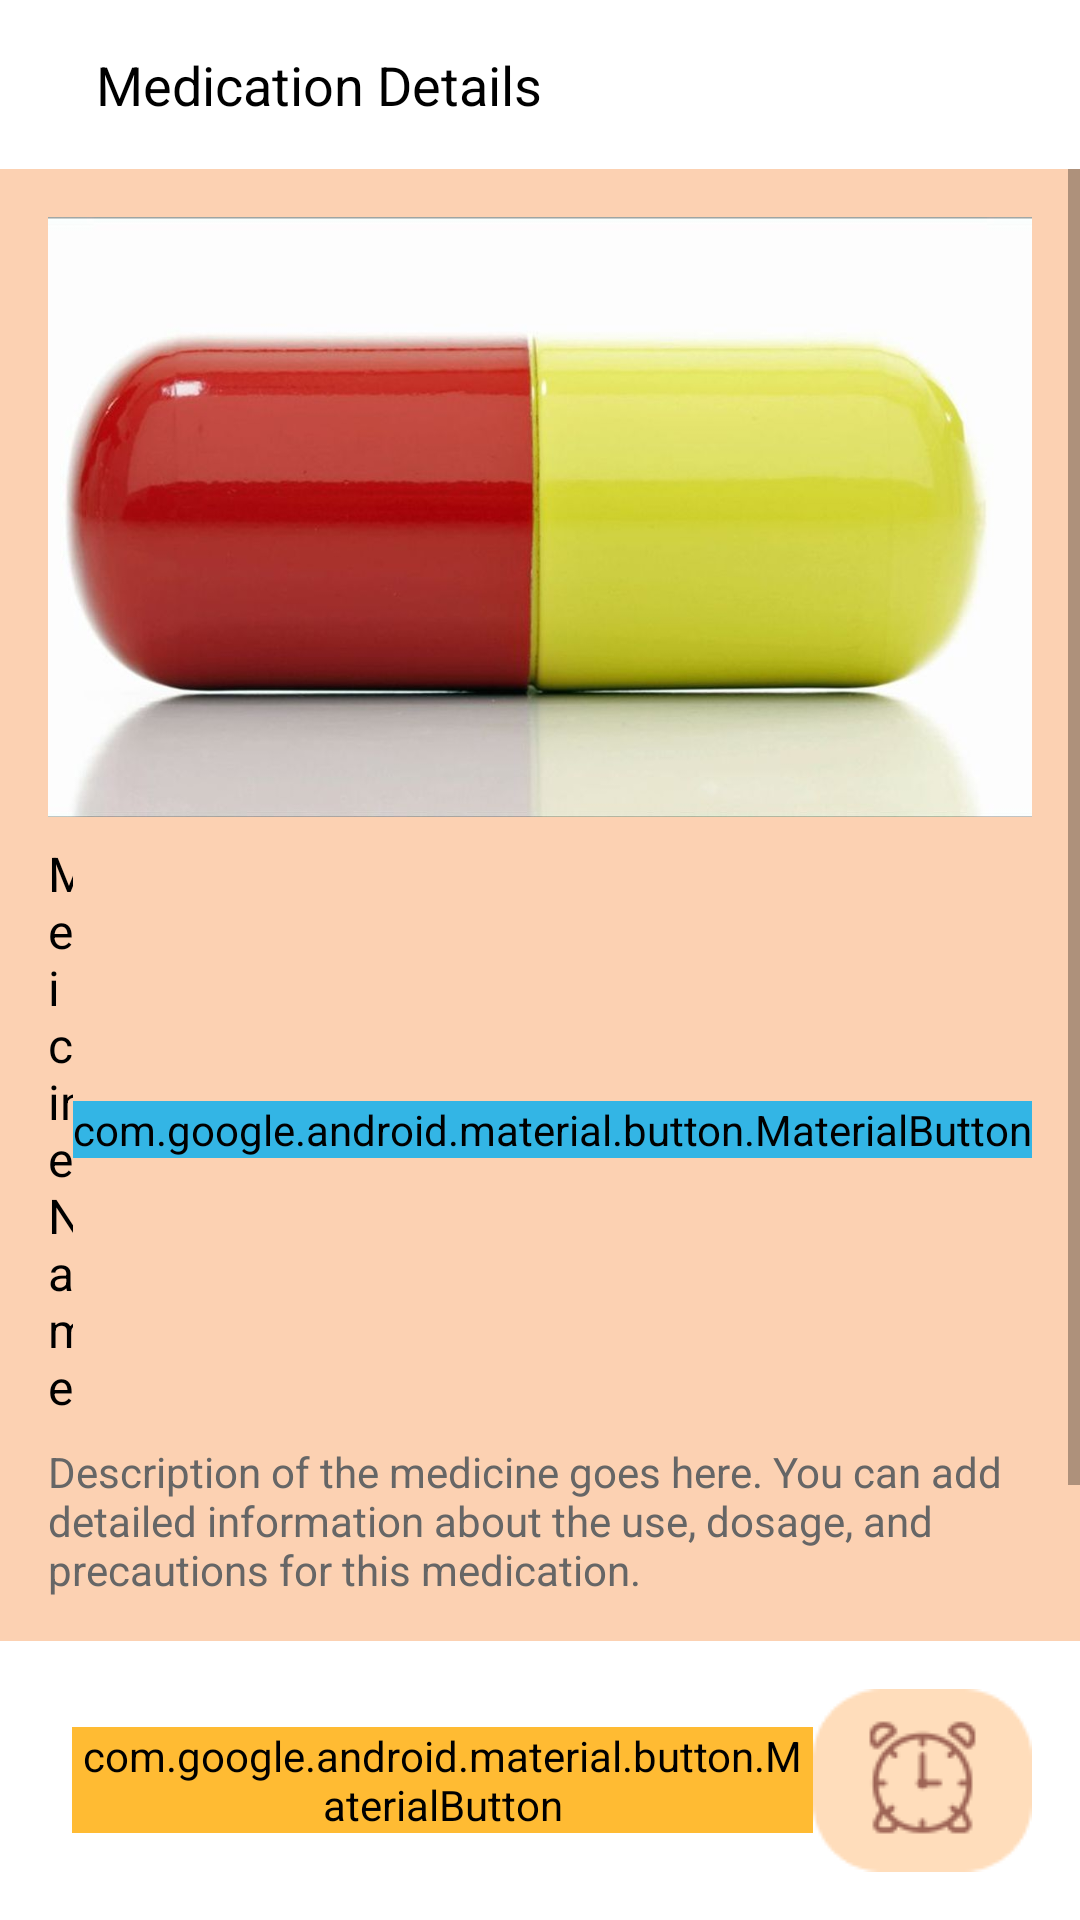

Named icons in this screenshot (1080w x 1920h) and their bounding boxes, bbox=(x1, y1, x2, y2):
timer: bbox=(813, 1689, 1032, 1872)
